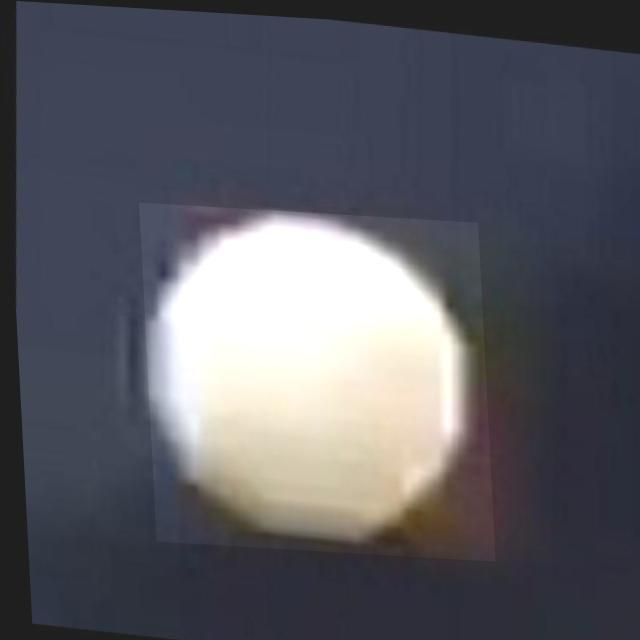-: (137, 201, 490, 556)
